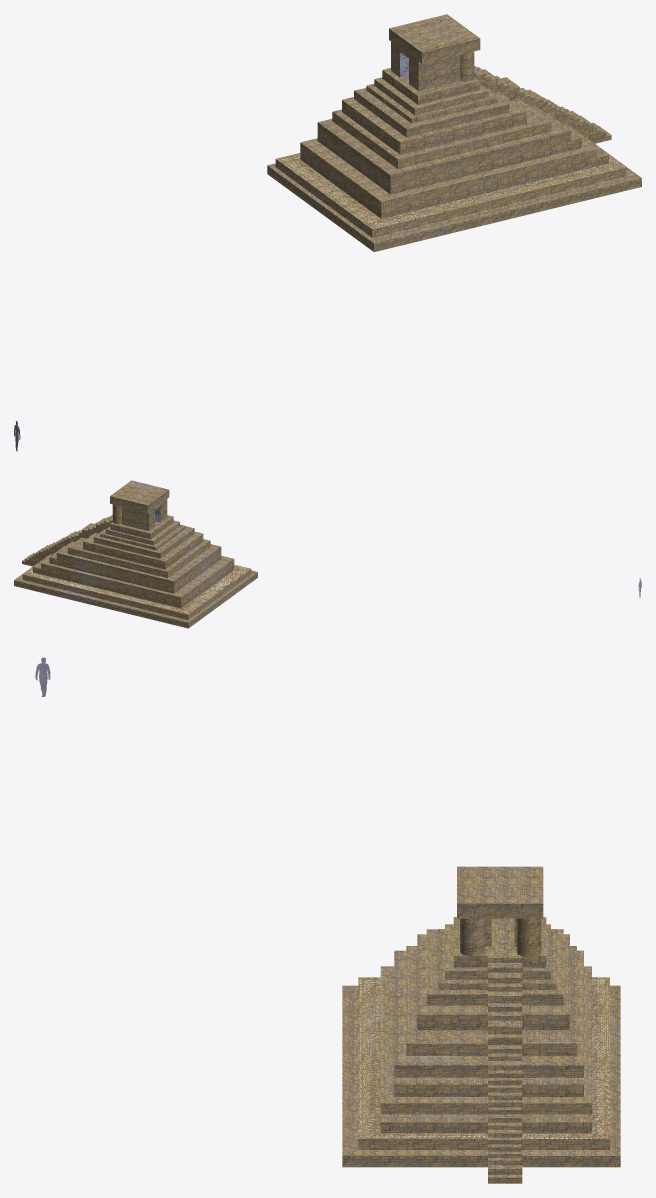
The model's file is Sin.fbx.
3 renders of one model, top to bottom at view 1: azimuth 30°, elevation 25°; view 2: azimuth 150°, elevation 25°; view 3: azimuth 270°, elevation 25°, orthographic. The views are drawn at different scales.
Visible parts, largest first — view 1: Model; view 2: Model; view 3: Model.
Part boxes in pixels (x1,y1,x2,y2): Model: (267,14,641,251); Model: (14,480,257,628); Model: (342,866,620,1183).
Bounding box in the file's own units: 47.71 × 8.63 × 24.24.
